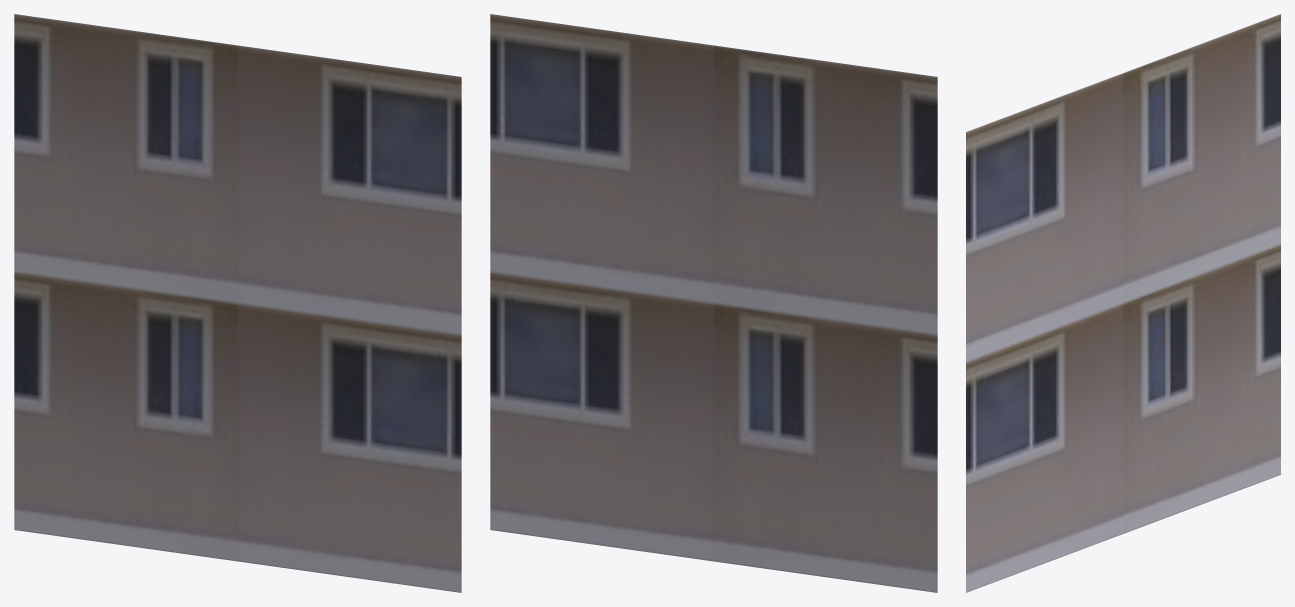
File: ResTex__2966.fbx
3 renders of one model, left to right at view 1: azimuth 30°, elevation 25°; view 2: azimuth 210°, elevation 25°; view 3: azimuth 270°, elevation 25°, orthographic. The views are drawn at different scales.
Visible parts, largest first — view 1: CityEngineMaterial_21_m; view 2: CityEngineMaterial_21_m; view 3: CityEngineMaterial_21_m.
Boxes of the visible parts, x1=… form: CityEngineMaterial_21_m: x1=14, y1=14, x2=461, y2=592; CityEngineMaterial_21_m: x1=490, y1=14, x2=937, y2=592; CityEngineMaterial_21_m: x1=966, y1=14, x2=1280, y2=592.
Bounding box in the file's own units: 3.3 × 6 × 3.72.
Materials: 1 (1 with a texture image).
